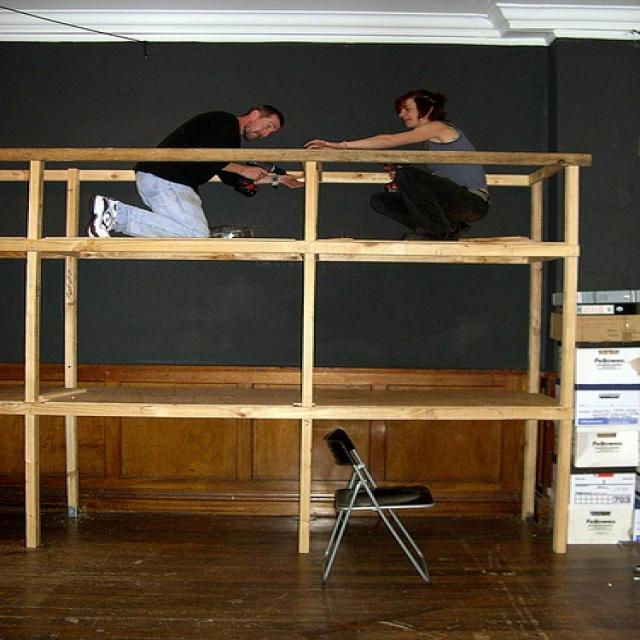chair: (309, 421, 437, 581)
